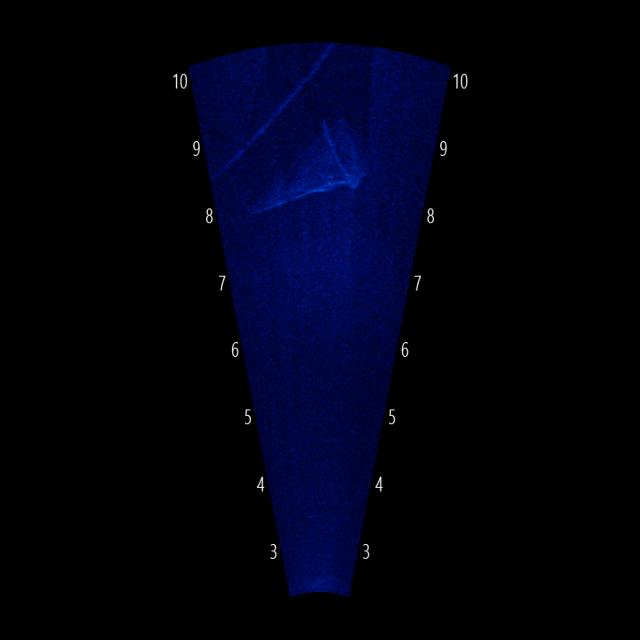triangle: (238, 108, 375, 220)
